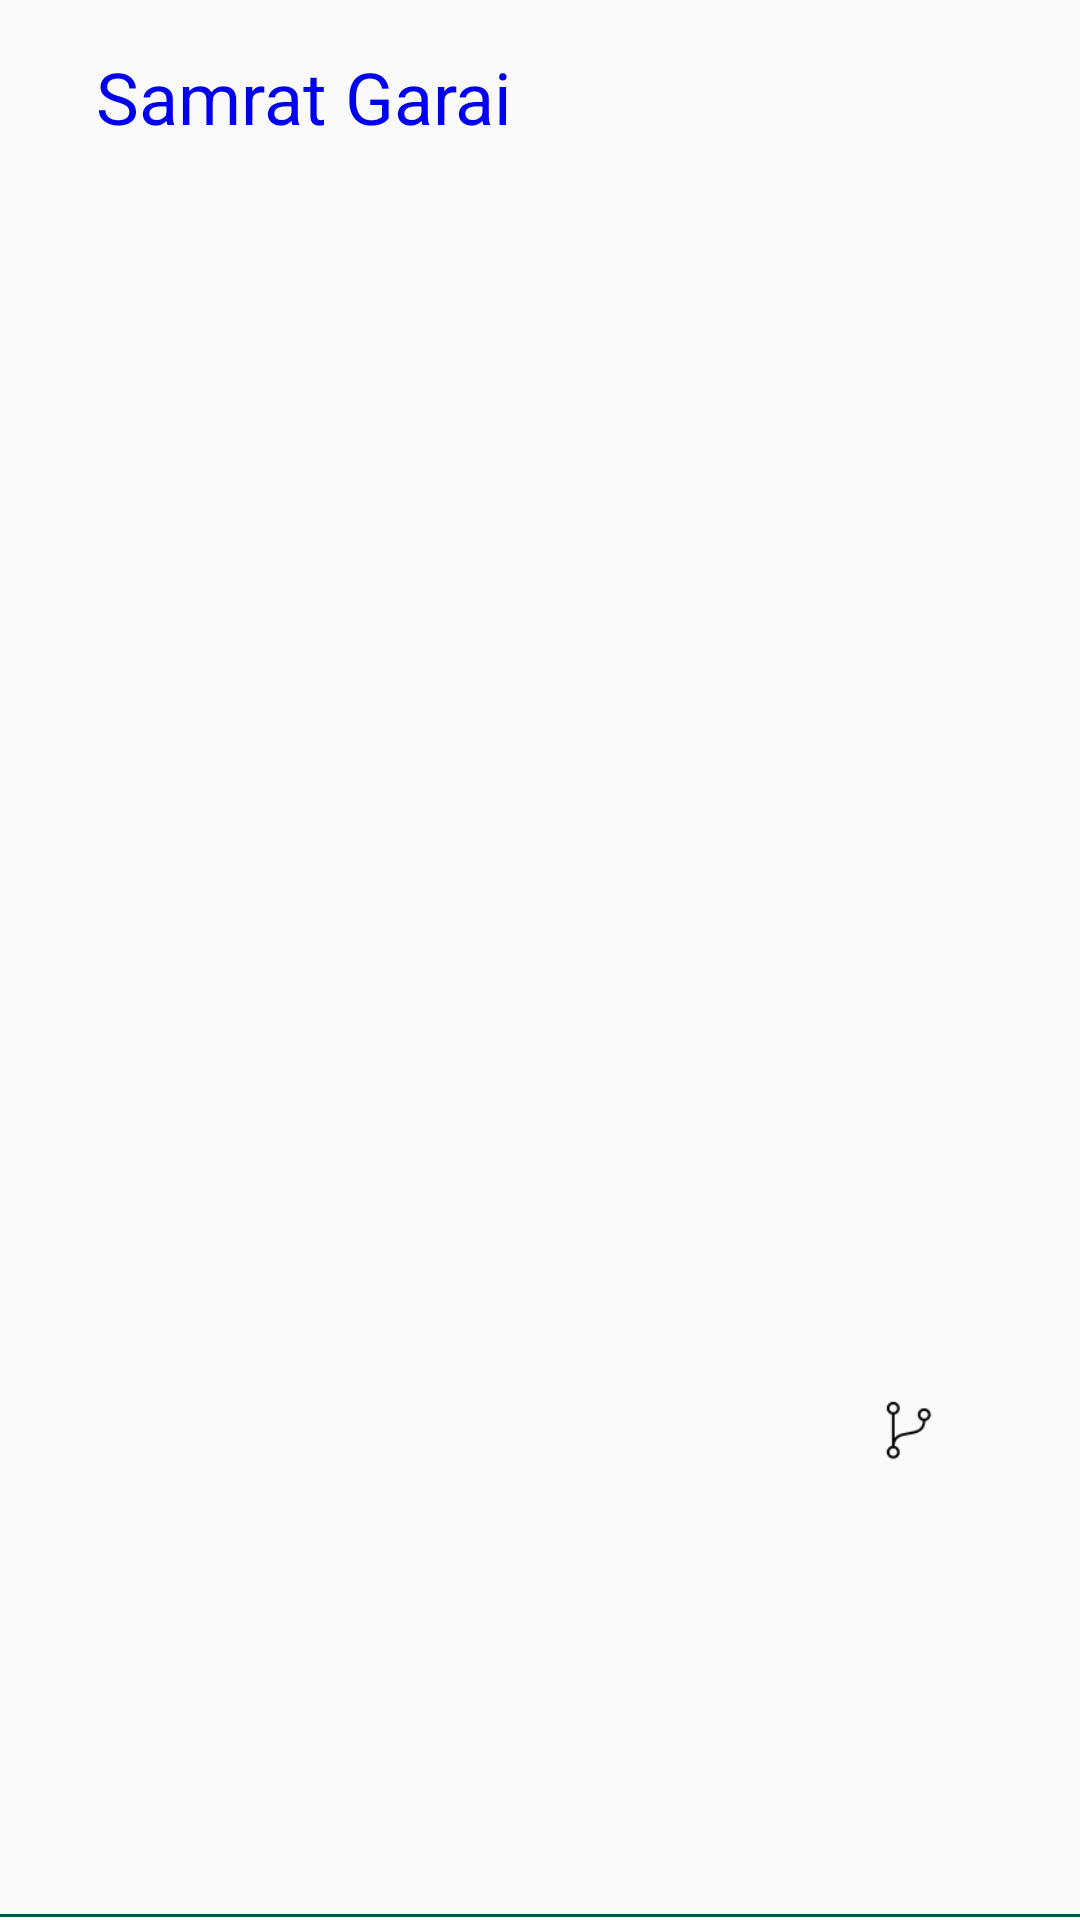

Named icons in this screenshot (1080×1920) and their bounding boxes, (x1, y1, x2, y2):
fork: (886, 1401, 932, 1460)
